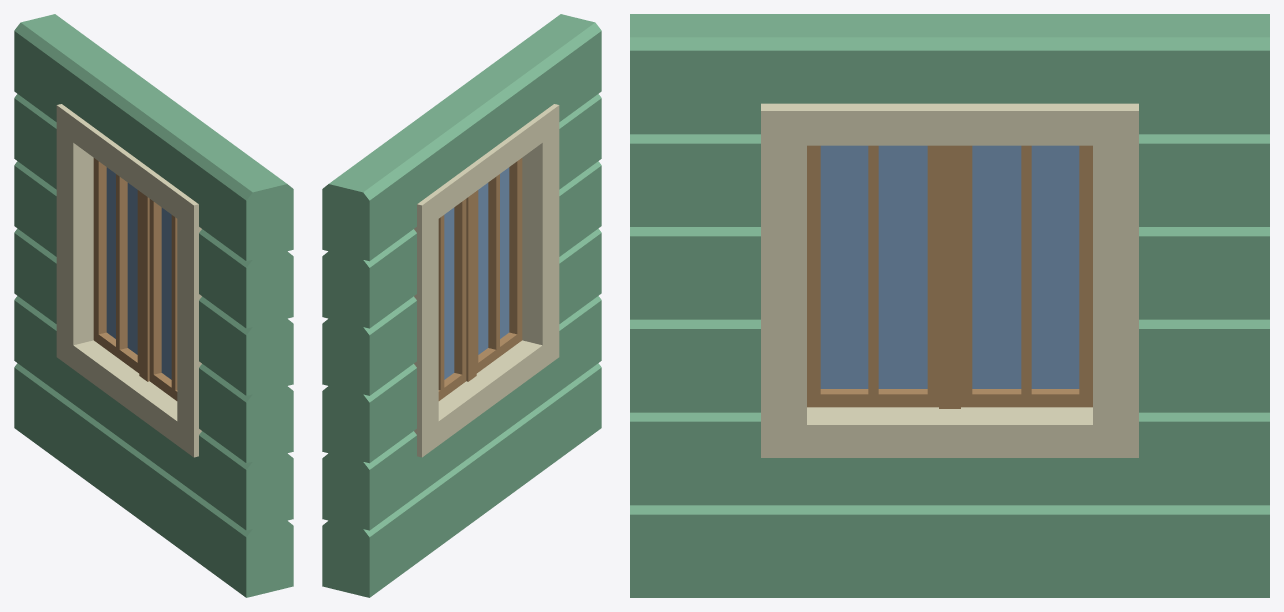
Rendered from Window01_house03.obj.
The picture shows the model from 3 angles, left to right: view 1: azimuth 30°, elevation 25°; view 2: azimuth 150°, elevation 25°; view 3: azimuth 270°, elevation 25°; orthographic projection. The views are drawn at different scales.
Visible parts, largest first — view 1: Window01_house03_Cube.004; view 2: Window01_house03_Cube.004; view 3: Window01_house03_Cube.004.
Part boxes in pixels (left/top/right/bottom): Window01_house03_Cube.004: left=14, top=14, right=293, bottom=597; Window01_house03_Cube.004: left=322, top=14, right=601, bottom=597; Window01_house03_Cube.004: left=630, top=14, right=1269, bottom=597.
Bounding box in the file's own units: 0.5406 × 3.3 × 3.44.
